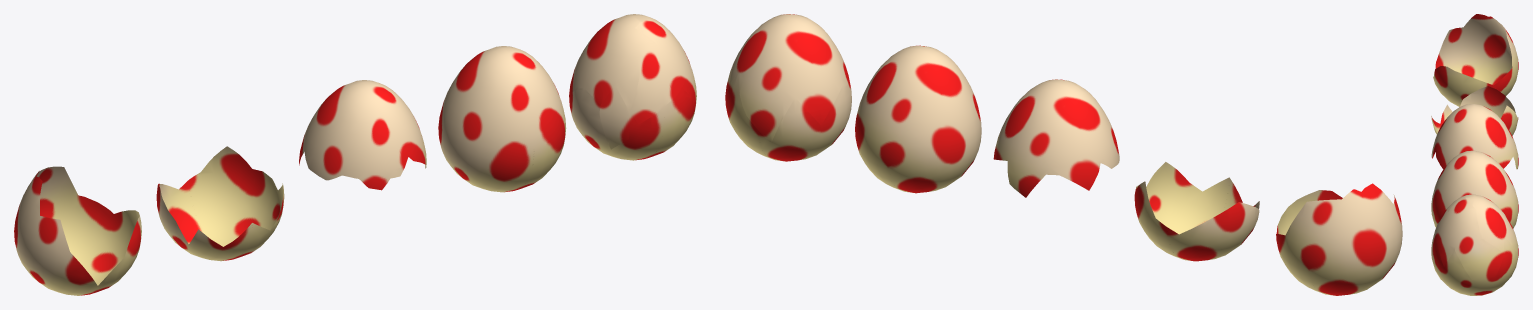
File: eggs.fbx
3 views of the same model, side by side, from view 1: azimuth 30°, elevation 25°; view 2: azimuth 150°, elevation 25°; view 3: azimuth 270°, elevation 25° (orthographic). The views are drawn at different scales.
Parts seen in each view (by area): view 1: egg, egg.003, egg.002, egg.001, egg_crush_u, egg_crush_d, egg_crush_u.001, egg_crush_d.001; view 2: egg, egg.003, egg.001, egg_crush_u, egg.002, egg_crush_d; view 3: egg.003, egg, egg.001, egg_crush_u.001, egg_crush_d, egg_crush_u, egg.002.
Part boxes in pixels (left/top/right/bottom): egg: left=438, top=46, right=566, bottom=192; egg.003: left=14, top=166, right=141, bottom=295; egg.002: left=156, top=146, right=284, bottom=261; egg.001: left=299, top=80, right=426, bottom=190; egg_crush_u: left=569, top=14, right=659, bottom=110; egg_crush_d: left=569, top=72, right=696, bottom=160; egg_crush_u.001: left=630, top=18, right=695, bottom=124; egg_crush_d.001: left=599, top=85, right=629, bottom=149; egg: left=855, top=45, right=981, bottom=193; egg.003: left=1276, top=183, right=1402, bottom=295; egg.001: left=993, top=79, right=1119, bottom=197; egg_crush_u: left=730, top=14, right=850, bottom=142; egg.002: left=1134, top=162, right=1259, bottom=261; egg_crush_d: left=726, top=70, right=851, bottom=161; egg.003: left=1433, top=14, right=1518, bottom=106; egg: left=1431, top=150, right=1518, bottom=228; egg.001: left=1431, top=103, right=1518, bottom=169; egg_crush_u.001: left=1432, top=197, right=1503, bottom=279; egg_crush_d: left=1431, top=236, right=1518, bottom=295; egg_crush_u: left=1447, top=194, right=1518, bottom=255; egg.002: left=1431, top=86, right=1518, bottom=135.
Size of the model in its own units: 1181 by 234 by 196.
